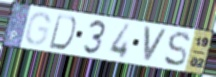3: (81, 19, 107, 56)
4: (107, 22, 131, 60)
D: (47, 13, 78, 51)
G: (23, 11, 52, 47)
S: (163, 30, 192, 69)
V: (142, 25, 169, 65)
